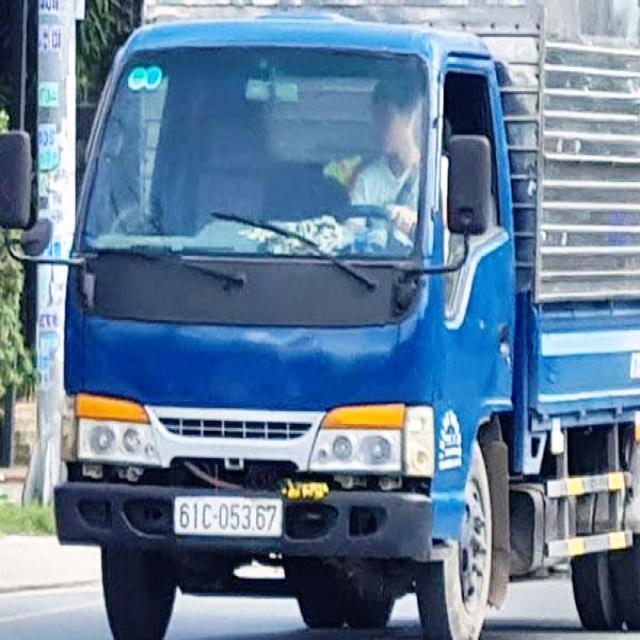license_plate: (176, 498, 283, 537)
